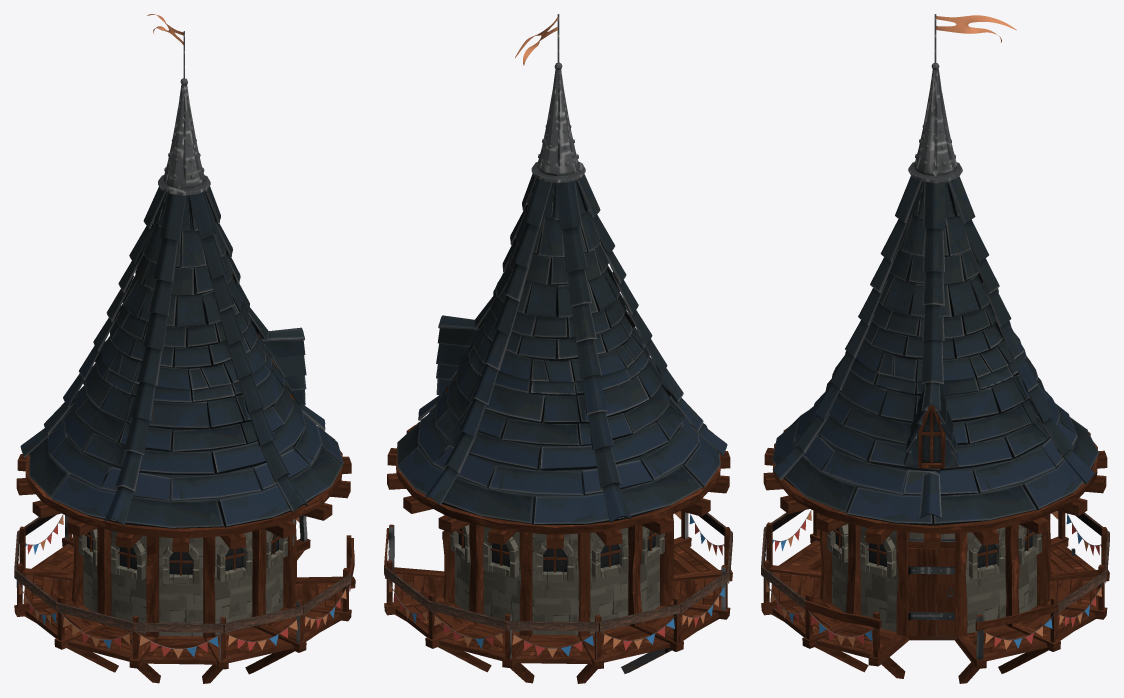
The model's file is Building_9.fbx.
3 views of the same model, side by side, from view 1: azimuth 30°, elevation 25°; view 2: azimuth 150°, elevation 25°; view 3: azimuth 270°, elevation 25° (orthographic). The views are drawn at different scales.
Visible parts, largest first — view 1: Building_9_LOD0; view 2: Building_9_LOD0; view 3: Building_9_LOD0.
Boxes of the visible parts, x1,y1,x2,y2 form: Building_9_LOD0: [14, 14, 355, 683]; Building_9_LOD0: [384, 14, 732, 683]; Building_9_LOD0: [761, 14, 1109, 683].
Size of what is drawn, in the model's own units: 963 by 1913 by 964.
